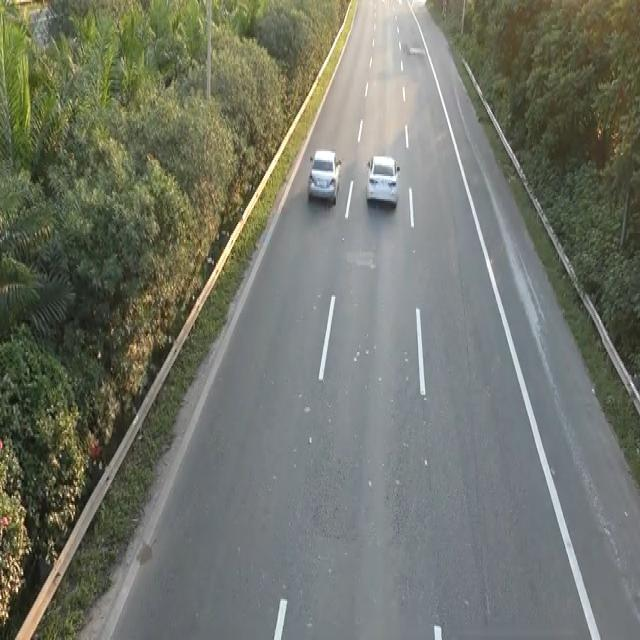bus: (363, 151, 403, 213), (306, 146, 342, 206)
